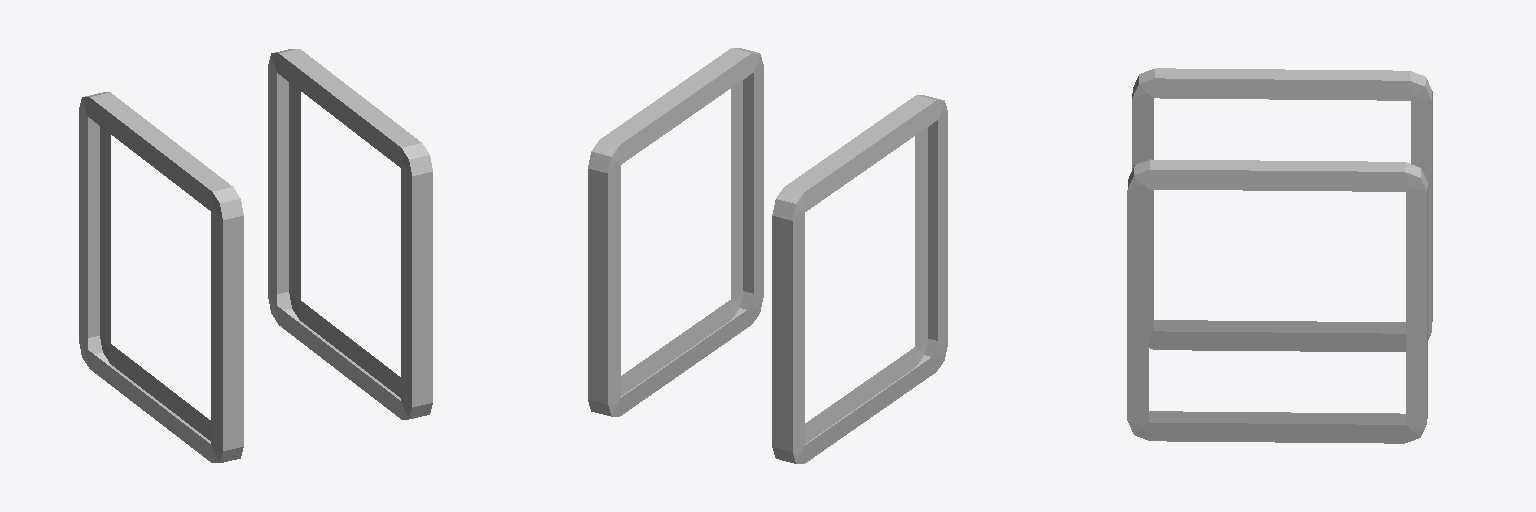
The model's file is BrickWrapping.obj.
3 renders of one model, left to right at view 1: azimuth 30°, elevation 25°; view 2: azimuth 150°, elevation 25°; view 3: azimuth 270°, elevation 25°, orthographic.
Parts seen in each view (by area): view 1: Cube.301; view 2: Cube.301; view 3: Cube.301.
Part boxes in pixels (left/top/right/bottom): Cube.301: left=79, top=49, right=432, bottom=462; Cube.301: left=588, top=48, right=947, bottom=463; Cube.301: left=1127, top=68, right=1432, bottom=443.
Bounding box in the file's own units: 0.1472 × 0.1777 × 0.1808.